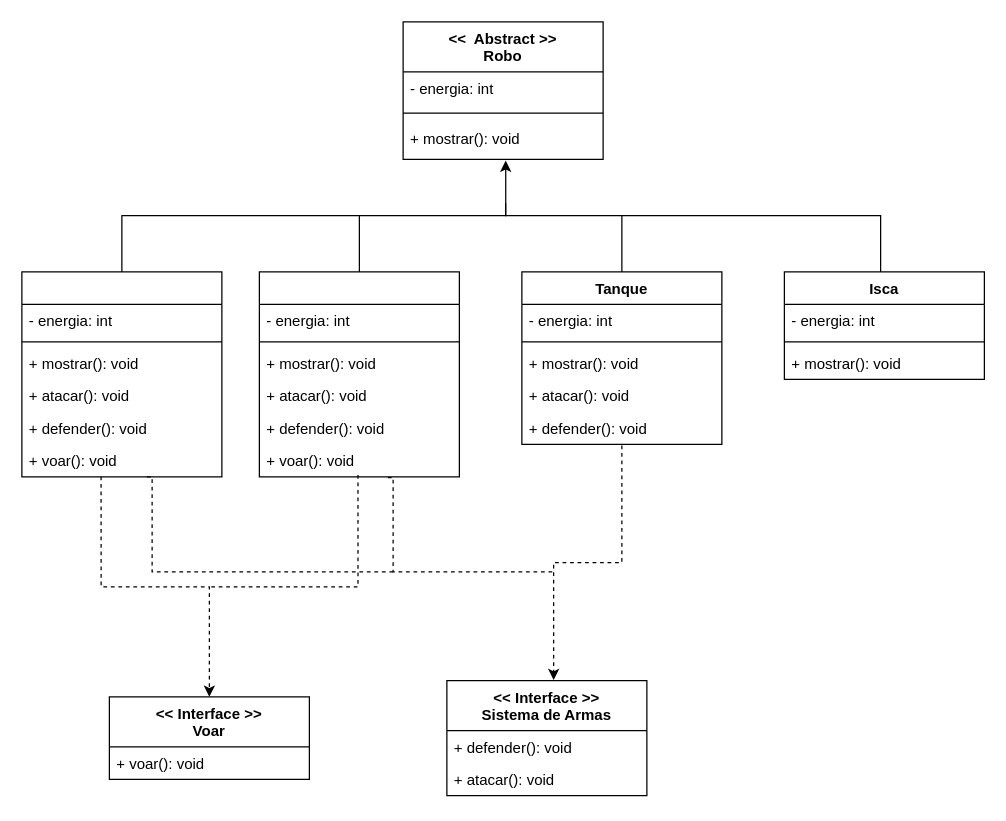
This 1006x821 diagram has some shape labels left out. Each missing label, with the box of its shape:
RoboLeve: (21, 271, 222, 477)
RoboPesado: (258, 271, 459, 477)
